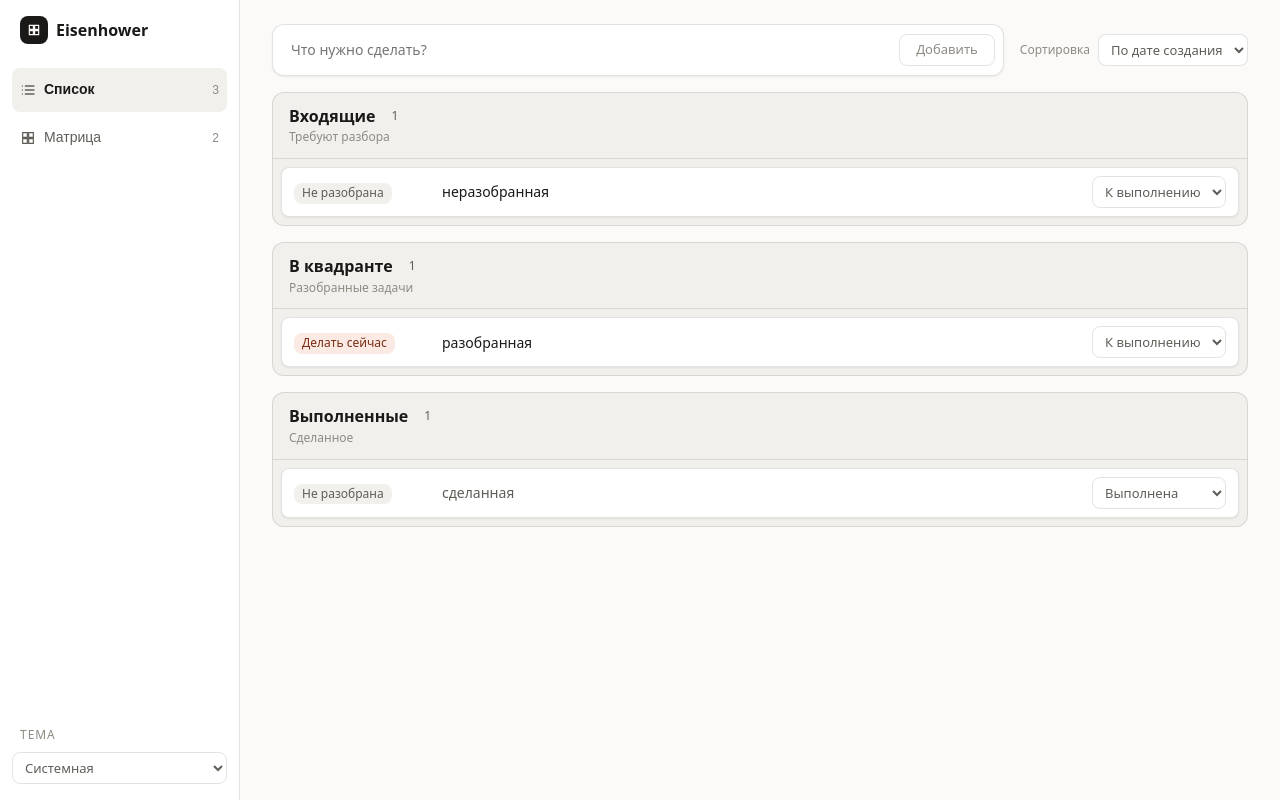
счётчики вкладок в меню › удалённая задача уходит из обоих счётчиков
Удаление живёт в окне задачи (issue #40), и открывает его клик по строке.
Click the element "неразобранная": (760, 192) [281, 167, 1239, 217]
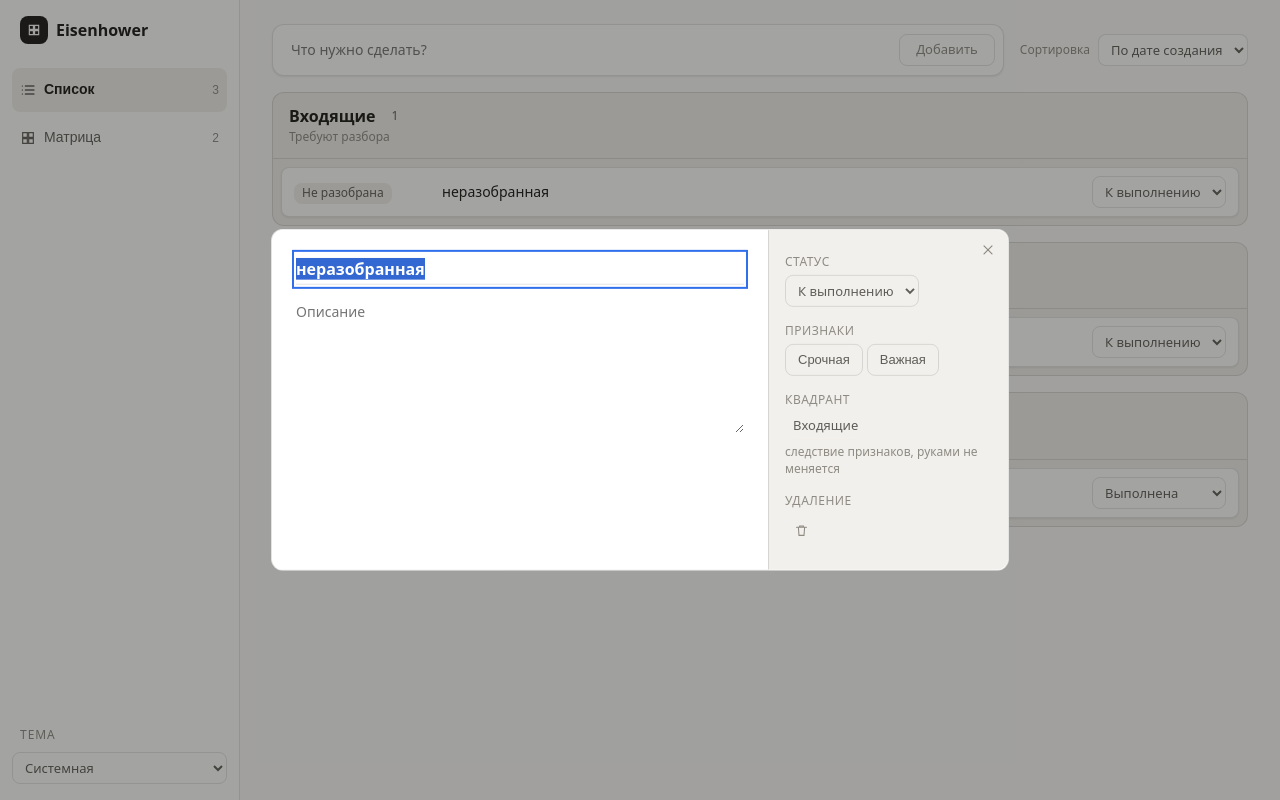
Click the button named "Удалить": (801, 530) [785, 514, 817, 546]
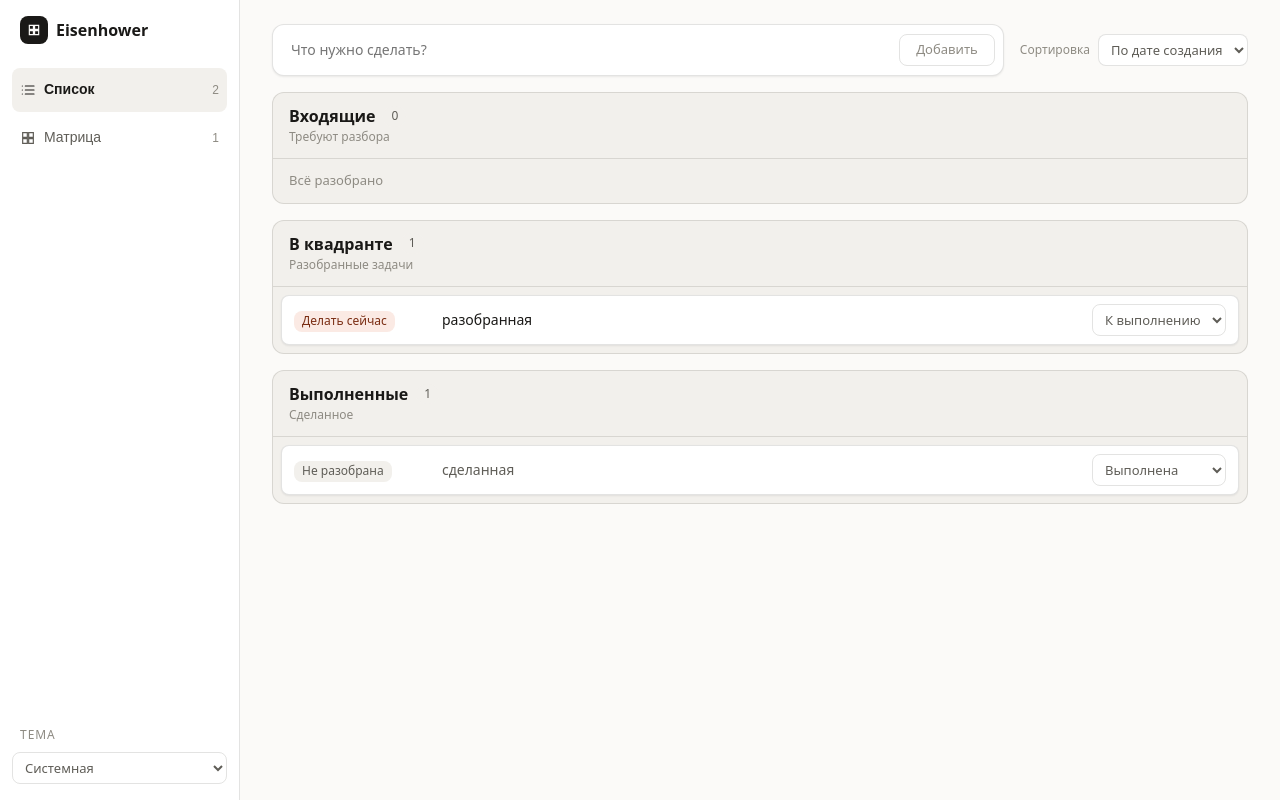
Now the text "2" is shown, box [212, 82, 219, 98]
